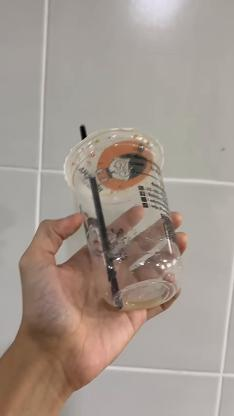Plastic Cup: (63, 128, 185, 310)
